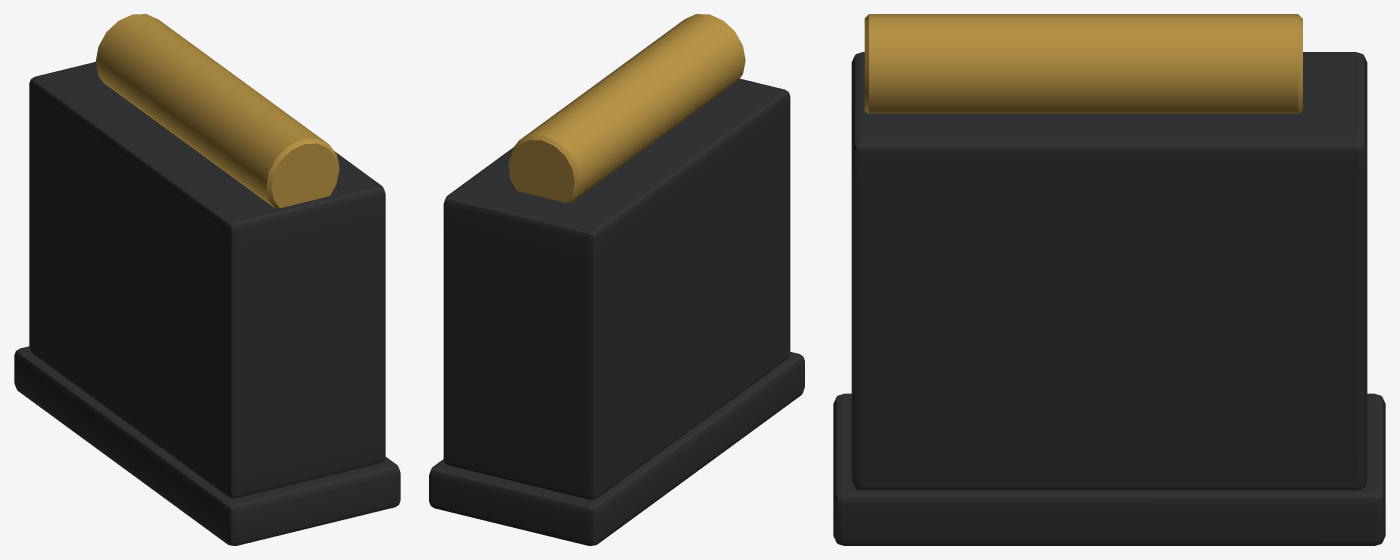
The model's file is mod_heron_standard_mag.glb.
3 renders of one model, left to right at view 1: azimuth 30°, elevation 25°; view 2: azimuth 150°, elevation 25°; view 3: azimuth 270°, elevation 25°, orthographic. The views are drawn at different scales.
Visible parts, largest first — view 1: Magazine, MagazineRound; view 2: Magazine, MagazineRound; view 3: Magazine, MagazineRound.
Boxes of the visible parts, <box> form: Magazine: <box>14,62,400,545</box>; MagazineRound: <box>95,14,339,208</box>; Magazine: <box>429,78,804,545</box>; MagazineRound: <box>508,14,745,202</box>; Magazine: <box>833,52,1385,545</box>; MagazineRound: <box>864,14,1302,113</box>.
Size of the model in its own units: 0.0274 by 0.0573 by 0.06.
